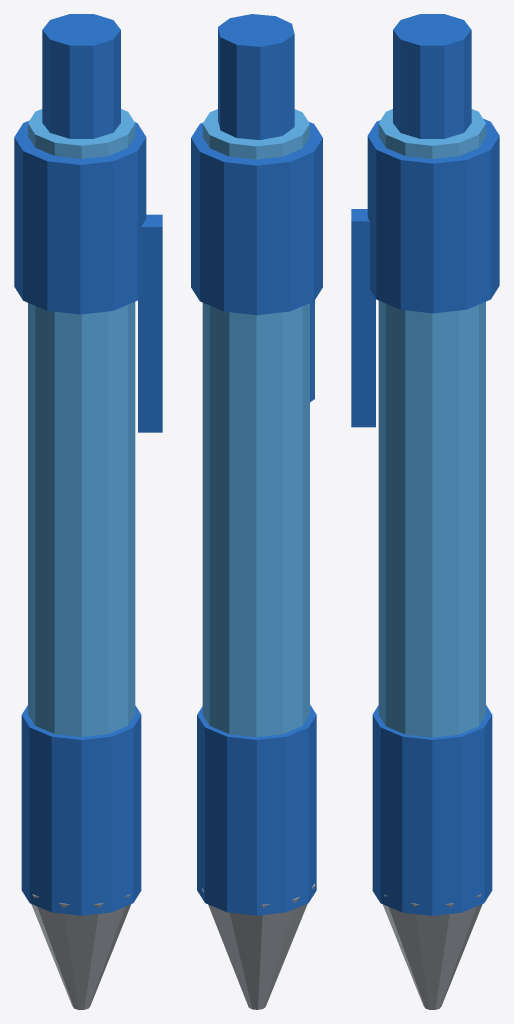
File: Pencil.fbx
The picture shows the model from 3 angles, left to right: view 1: azimuth 90°, elevation 25°; view 2: azimuth 150°, elevation 25°; view 3: azimuth 270°, elevation 25°; orthographic projection.
Visible parts, largest first — view 1: Topo da caneta; view 2: Topo da caneta; view 3: Topo da caneta.
Boxes of the visible parts, box(x1,y1,x2,y2) form: Topo da caneta: box(14, 14, 162, 1009); Topo da caneta: box(191, 14, 322, 1009); Topo da caneta: box(351, 14, 499, 1009).
Bounding box in the file's own units: 32 × 261 × 35.95.
